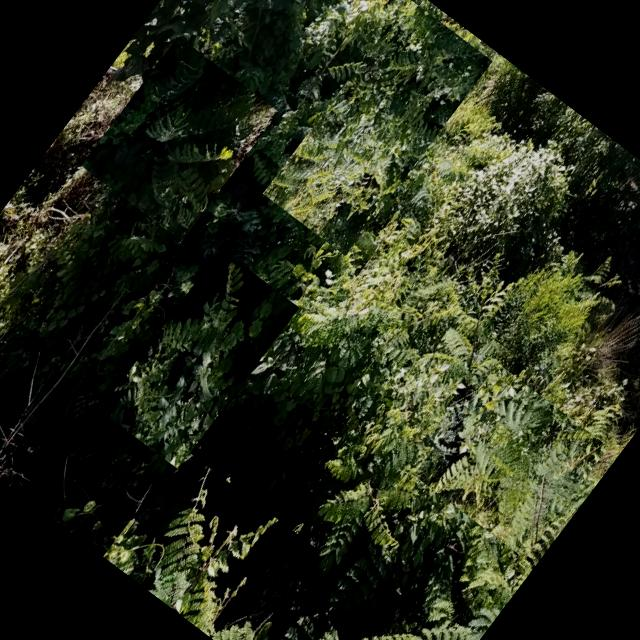Mysore-Thorn-Weed: (262, 0, 492, 256), (99, 249, 299, 469), (102, 449, 319, 640), (80, 36, 278, 242), (414, 363, 608, 560), (259, 582, 453, 640)
